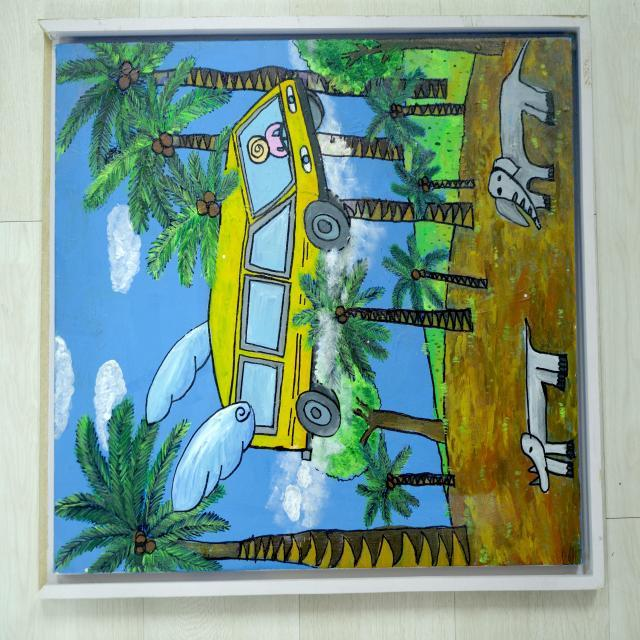painting: (43, 18, 602, 596)
